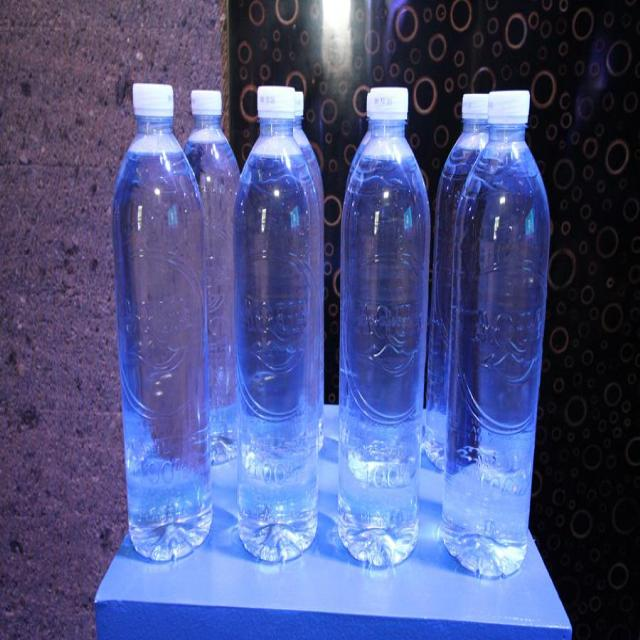plastic_bottle: (111, 71, 217, 551), (445, 101, 539, 583), (235, 84, 324, 561), (338, 81, 422, 568), (181, 80, 250, 544), (438, 97, 478, 482)
